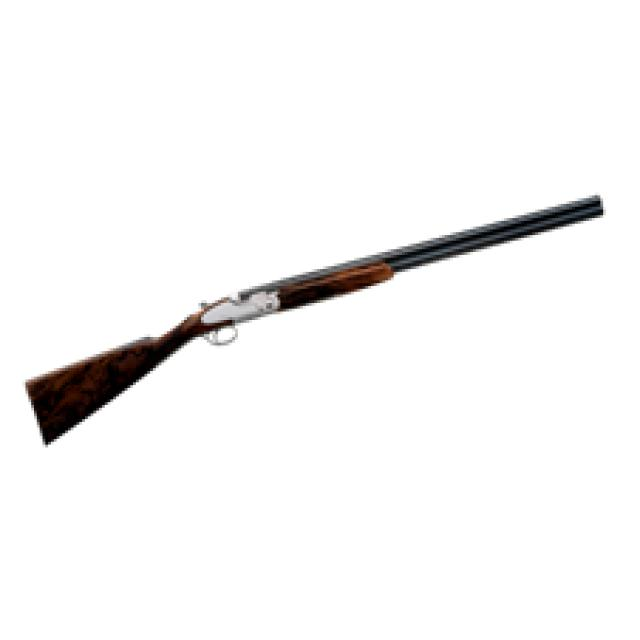rifle: (12, 189, 611, 463)
